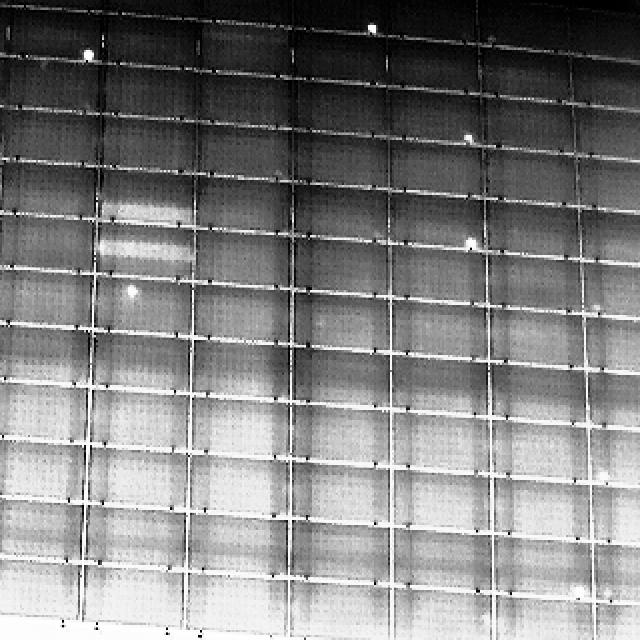Hotspots: (461, 232, 486, 252), (73, 46, 97, 64), (568, 582, 592, 600), (362, 16, 383, 36), (460, 129, 481, 146), (125, 282, 141, 300)
PV-modules: (80, 560, 190, 627), (180, 574, 290, 639), (183, 513, 289, 580), (86, 386, 190, 452), (286, 577, 394, 640), (387, 467, 490, 533), (82, 447, 188, 511), (287, 521, 393, 584), (188, 336, 289, 402), (82, 506, 186, 570), (186, 454, 288, 518), (388, 527, 490, 591), (291, 404, 393, 468), (494, 536, 599, 598), (387, 245, 488, 308), (187, 394, 289, 456), (88, 333, 190, 395), (292, 462, 392, 525), (0, 320, 92, 388), (388, 353, 488, 415), (496, 475, 594, 538), (290, 295, 392, 355), (0, 108, 102, 168), (0, 437, 90, 505), (493, 420, 590, 482), (388, 412, 488, 472), (194, 232, 294, 292), (193, 285, 293, 345), (94, 172, 194, 232), (0, 210, 96, 272), (0, 160, 99, 220), (94, 276, 193, 336), (196, 176, 296, 235), (388, 303, 488, 362), (490, 308, 588, 368), (0, 380, 90, 445), (490, 363, 587, 423), (97, 115, 197, 173), (290, 130, 390, 188), (384, 138, 484, 196), (290, 185, 390, 243), (469, 0, 572, 56), (484, 149, 580, 209), (92, 224, 193, 281), (3, 57, 104, 114), (388, 585, 492, 640), (488, 254, 586, 312), (292, 349, 390, 407), (292, 240, 390, 298), (386, 193, 484, 251), (196, 72, 299, 127), (0, 268, 94, 328), (197, 125, 295, 182), (100, 62, 198, 118), (292, 82, 390, 138), (483, 98, 577, 156), (0, 495, 80, 563), (291, 31, 388, 87), (485, 203, 580, 260), (198, 24, 296, 79), (0, 552, 80, 618), (386, 88, 480, 144), (101, 17, 200, 70), (8, 5, 106, 58), (385, 40, 479, 94), (480, 49, 572, 104), (494, 592, 596, 640), (569, 4, 640, 64), (374, 0, 478, 40), (572, 108, 640, 166), (567, 55, 638, 108), (576, 158, 640, 216), (581, 204, 640, 266), (584, 259, 640, 320), (588, 317, 640, 377), (589, 367, 640, 427), (592, 482, 640, 544), (590, 425, 640, 483), (594, 542, 640, 604), (198, 0, 296, 27), (289, 8, 384, 35), (108, 0, 210, 20), (594, 600, 638, 640), (0, 47, 6, 105), (0, 0, 6, 50)
